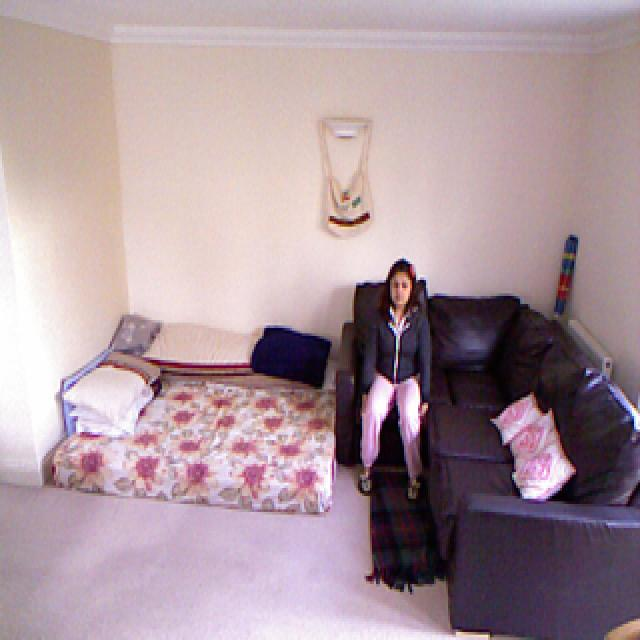sitting: (354, 264, 435, 489)
